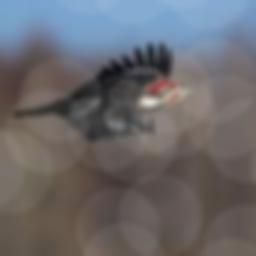Woodpecker: (11, 40, 201, 142)
